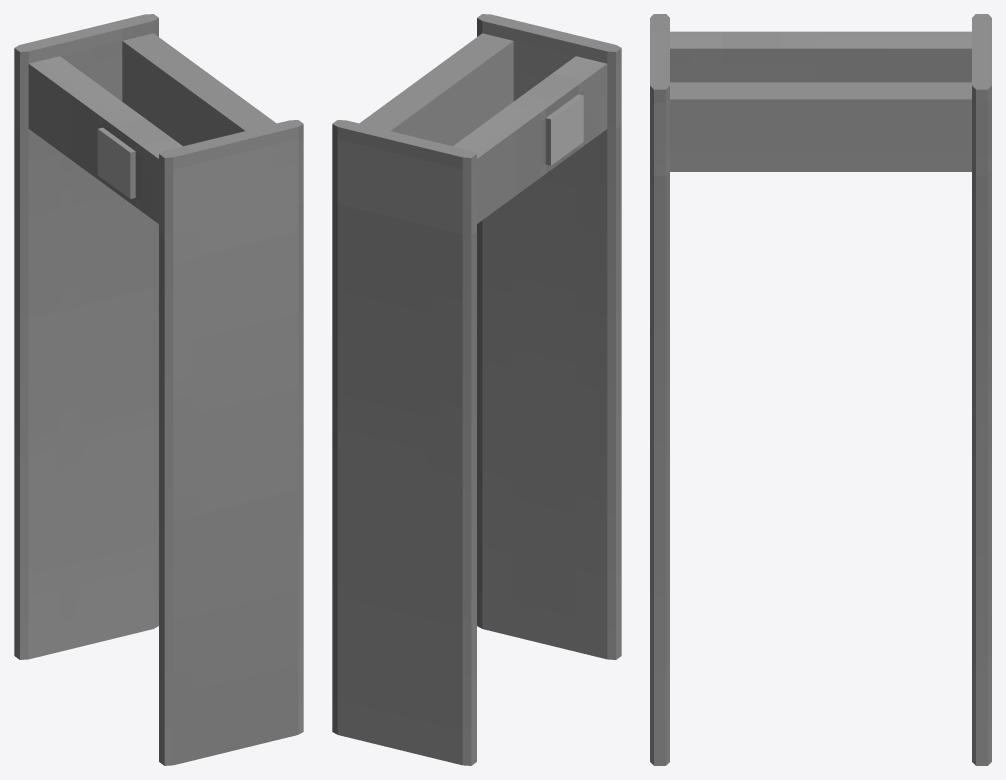
The model's file is metal_search.fbx.
3 views of the same model, side by side, from view 1: azimuth 30°, elevation 25°; view 2: azimuth 150°, elevation 25°; view 3: azimuth 270°, elevation 25° (orthographic). The views are drawn at different scales.
Parts seen in each view (by area): view 1: Куб; view 2: Куб; view 3: Куб.
Part boxes in pixels (left/top/right/bottom): Куб: left=14, top=14, right=303, bottom=765; Куб: left=332, top=14, right=621, bottom=765; Куб: left=650, top=14, right=991, bottom=765.
Bounding box in the file's own units: 2.48 × 10.32 × 4.72.
